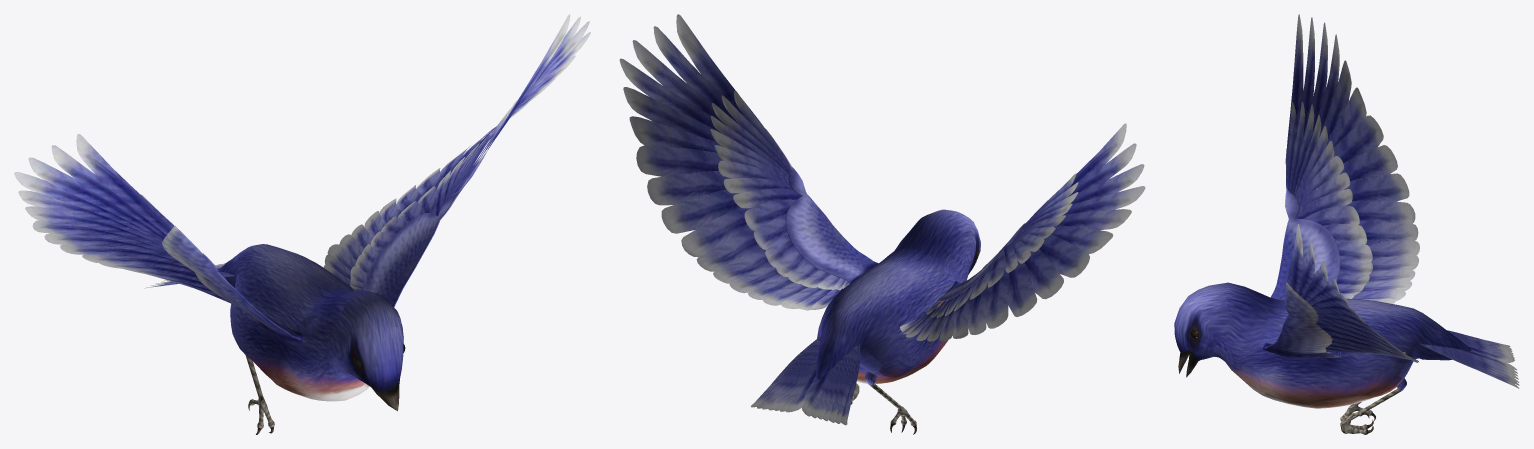
File: bluebird.obj
The picture shows the model from 3 angles, left to right: view 1: azimuth 30°, elevation 25°; view 2: azimuth 150°, elevation 25°; view 3: azimuth 270°, elevation 25°; orthographic projection. The views are drawn at different scales.
Size of the model in its own units: 5.65 by 3.49 by 3.34.
1 material, 1 textured.
